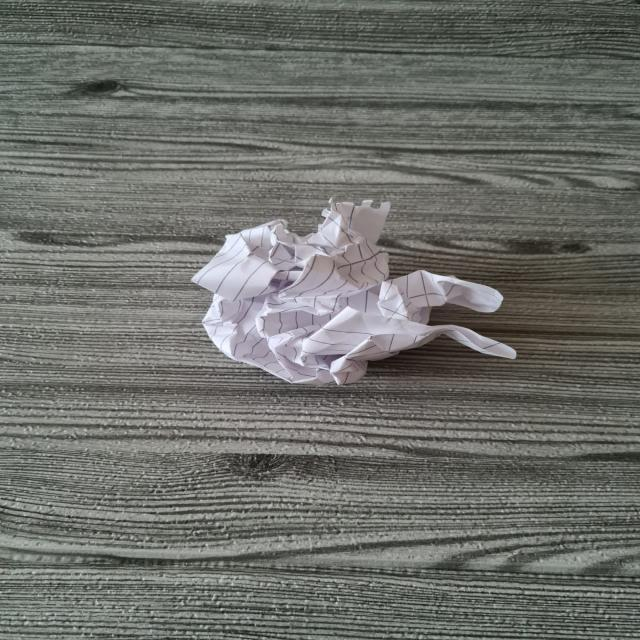Paper: (190, 201, 528, 380)
